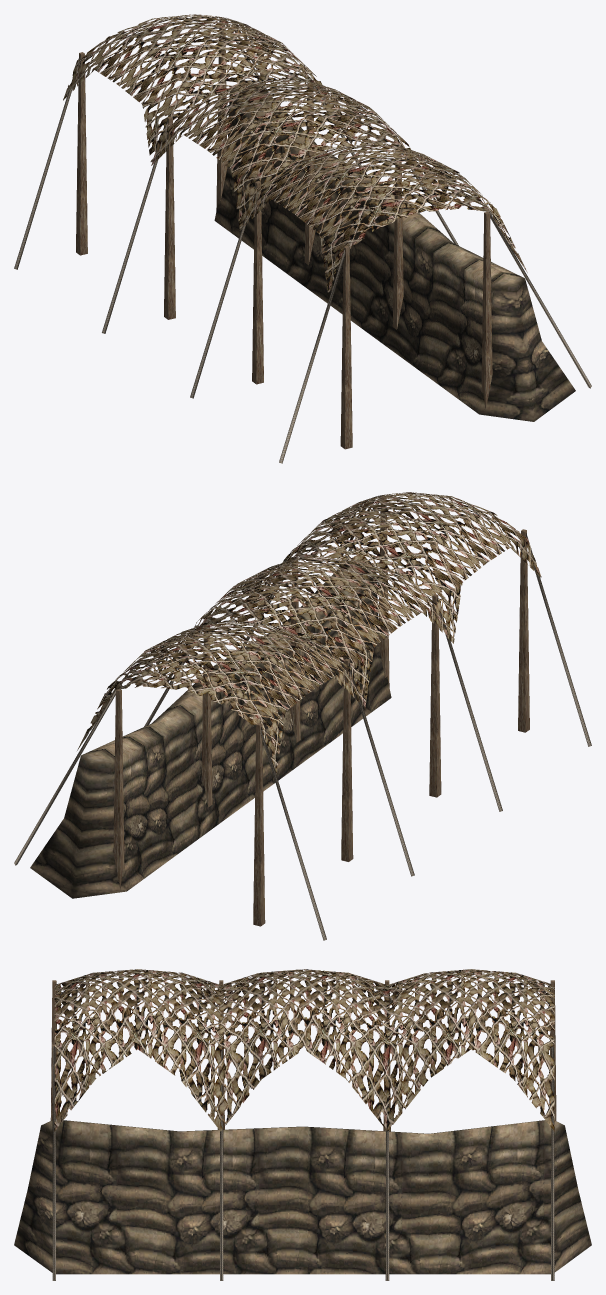
File: bnkr08.glb
3 views of the same model, one above another, from view 1: azimuth 30°, elevation 25°; view 2: azimuth 150°, elevation 25°; view 3: azimuth 270°, elevation 25° (orthographic). The views are drawn at different scales.
Parts seen in each view (by area): view 1: _bnkr08; view 2: _bnkr08; view 3: _bnkr08.
Boxes of the visible parts, bbox=[...] form: _bnkr08: bbox=[14, 14, 591, 463]; _bnkr08: bbox=[14, 492, 591, 940]; _bnkr08: bbox=[14, 969, 591, 1280].
Bounding box in the file's own units: 4.1 × 2.95 × 6.97.
2 materials, 2 textured.
